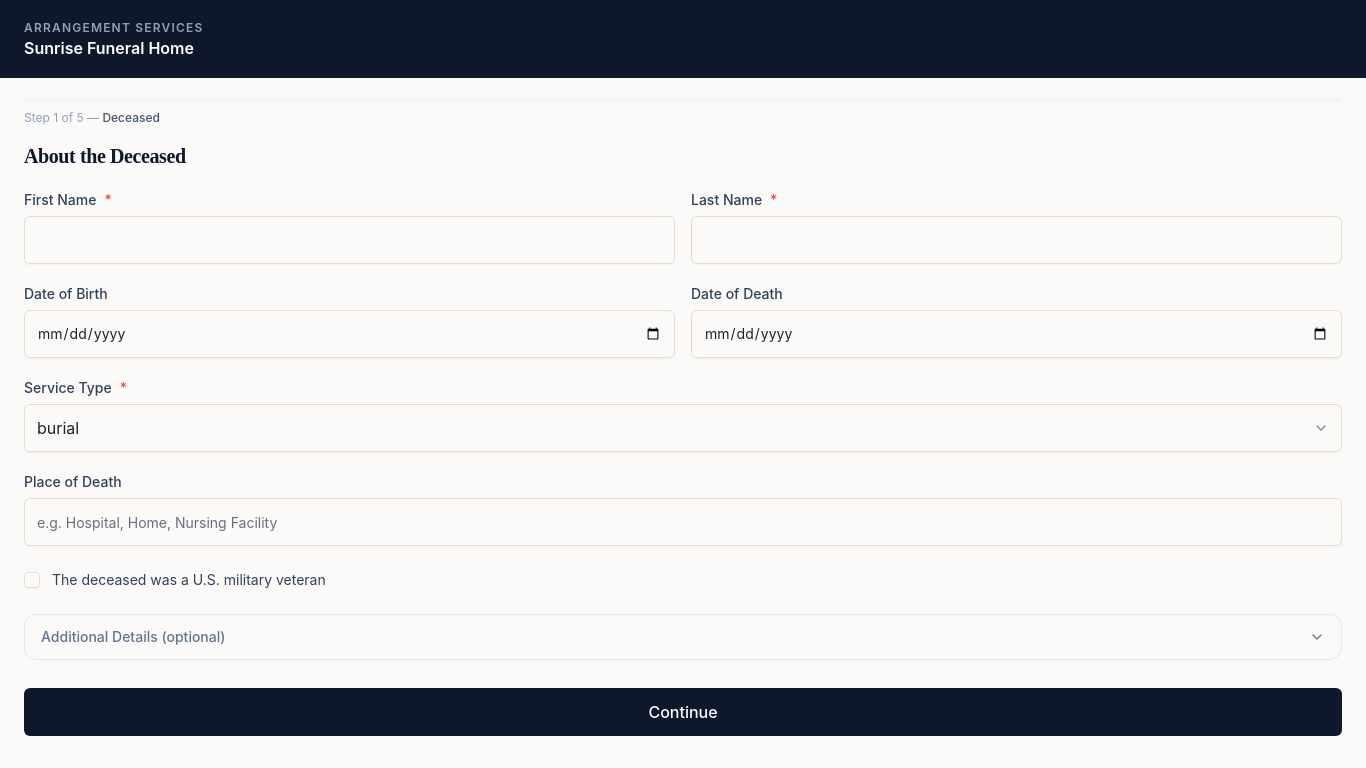
it: IntakeForm › advances to step 2 when step 1 is filled and Continue clicked
The width and height of the screenshot is (1366, 768).
Expected: the button "Continue" is shown, [24,688,1342,736]
Type "Alice" into the field below "First Name" at (350, 240), box [24,216,675,264]
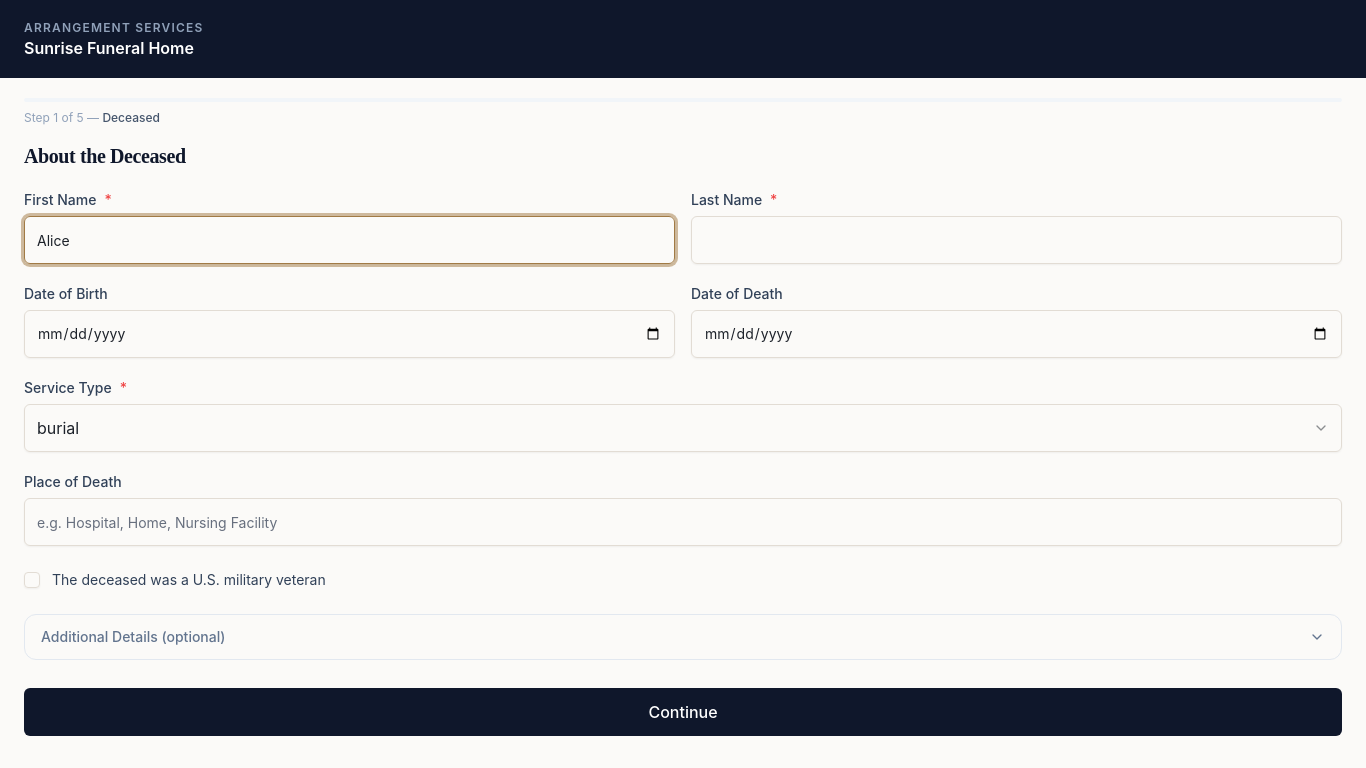
Type "Smith" into the field below "Last Name" at (1016, 240), box [691,216,1342,264]
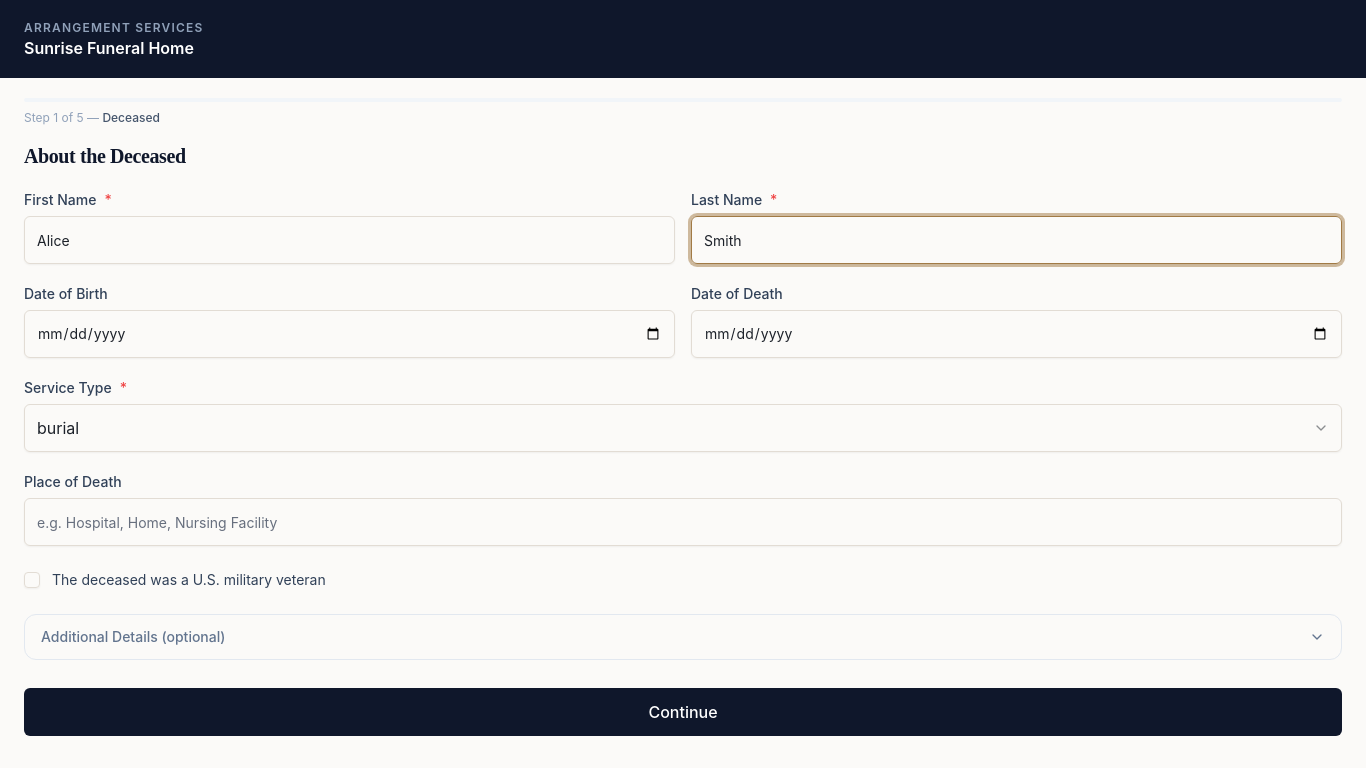
Click the button "Continue" at (683, 712), box [24,688,1342,736]
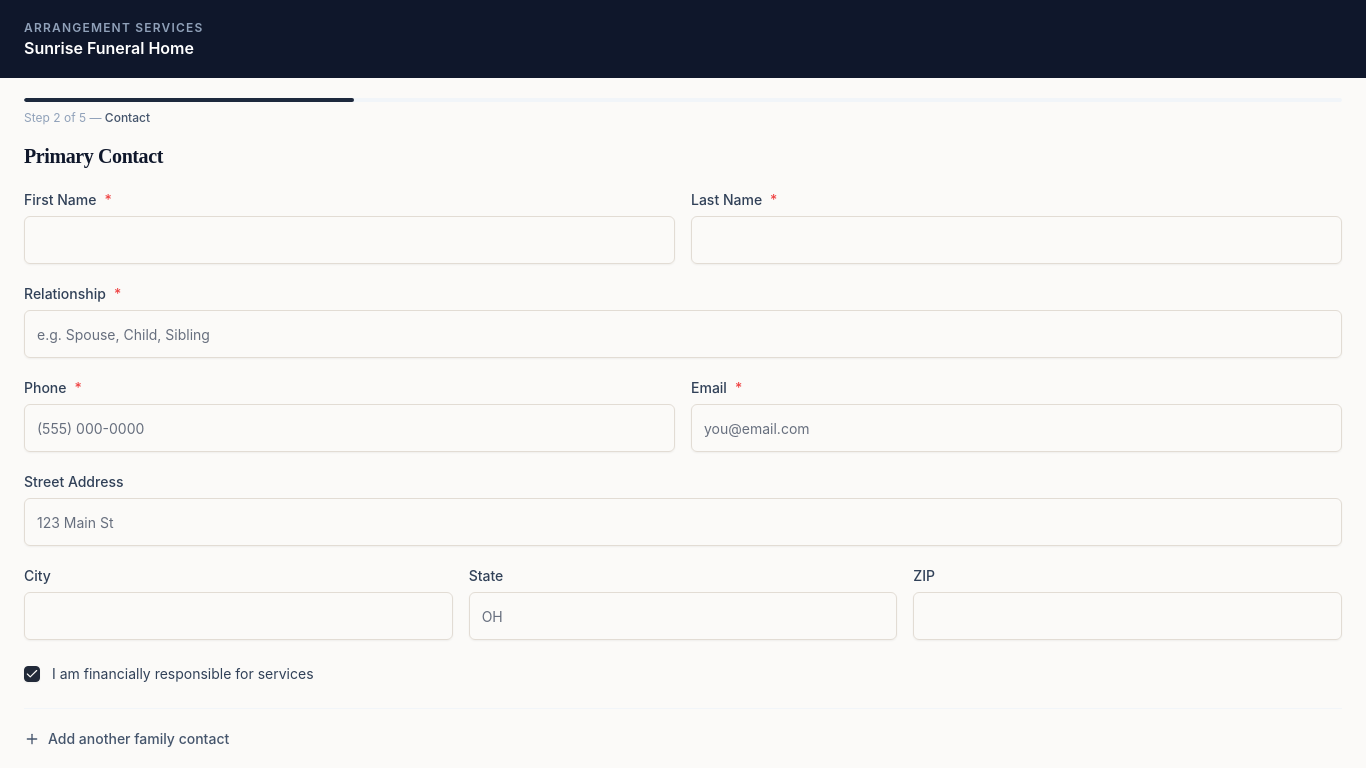
Expected: the heading "Primary Contact" is shown, [24,145,163,167]
